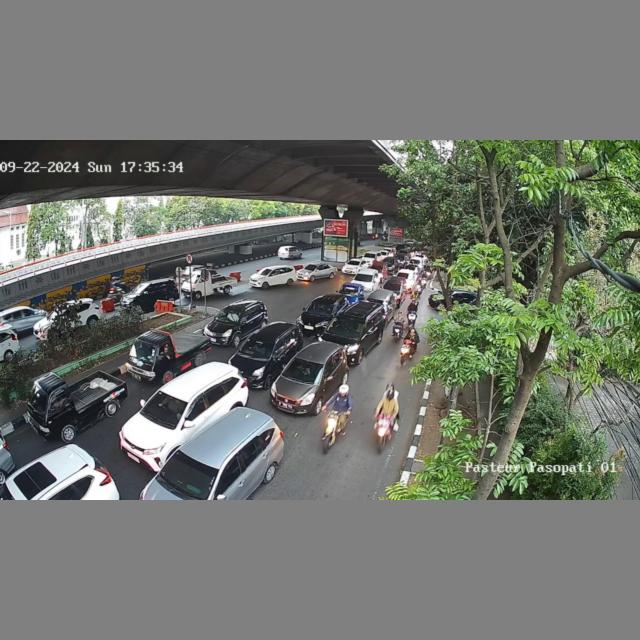windshield: (160, 451, 219, 498), (140, 391, 185, 424), (285, 356, 323, 384), (329, 315, 366, 337), (238, 337, 275, 358), (131, 337, 157, 363), (28, 384, 50, 413), (307, 300, 335, 313), (217, 307, 241, 322)
